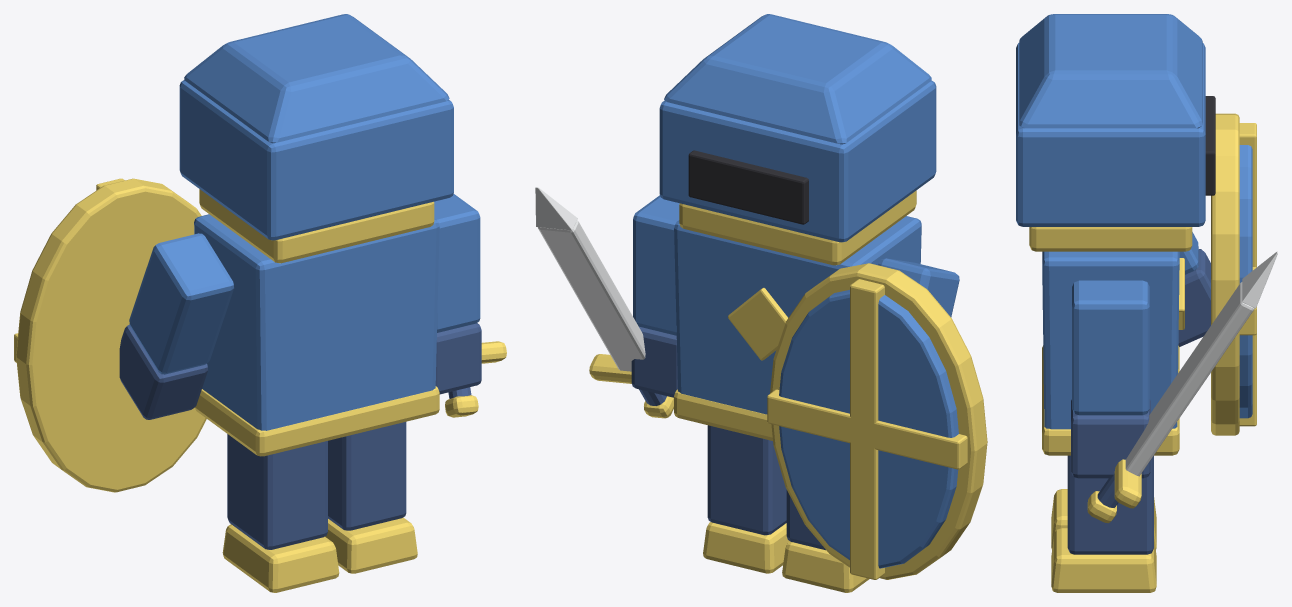
Rendered from shieldman.glb.
3 renders of one model, left to right at view 1: azimuth 30°, elevation 25°; view 2: azimuth 150°, elevation 25°; view 3: azimuth 270°, elevation 25°, orthographic.
Parts seen in each view (by area): view 1: TorsoBody, ShieldRim, Helmet, HelmetTop, UpperL, ShinL, ShinR, Belt, UpperR, Collar, BootL, ForeL (+3 smaller); view 2: ShieldFace, Helmet, HelmetTop, TorsoBody, ShieldRim, ShieldBarV, ShinR, Blade, ShieldBarH, Visor, UpperR, Collar (+9 smaller); view 3: HelmetTop, Helmet, TorsoBody, UpperR, ShieldRim, Blade, ShinR, BootR, ForeR, Collar, ShieldFace, ForeL (+10 smaller).
Part boxes in pixels (<box>): TorsoBody: <box>194,214,439,430</box>; ShieldRim: <box>16,178,206,492</box>; Helmet: <box>179,80,453,240</box>; HelmetTop: <box>184,14,449,143</box>; UpperL: <box>129,233,233,374</box>; ShinL: <box>227,434,327,549</box>; ShinR: <box>328,422,406,530</box>; Belt: <box>195,386,439,456</box>; UpperR: <box>434,194,480,332</box>; Collar: <box>199,189,434,263</box>; BootL: <box>222,524,339,592</box>; ForeL: <box>119,324,207,419</box>; ShieldFace: <box>779,290,958,568</box>; Helmet: <box>659,81,936,242</box>; HelmetTop: <box>664,14,931,144</box>; TorsoBody: <box>674,216,921,414</box>; ShieldRim: <box>770,263,987,579</box>; ShieldBarV: <box>850,279,884,579</box>; ShinR: <box>707,425,786,535</box>; Blade: <box>538,220,645,371</box>; ShieldBarH: <box>767,389,967,469</box>; Visor: <box>688,150,808,224</box>; UpperR: <box>633,195,679,335</box>; Collar: <box>679,190,916,265</box>; HelmetTop: <box>1019,14,1202,128</box>; Helmet: <box>1016,43,1205,226</box>; TorsoBody: <box>1042,251,1179,429</box>; UpperR: <box>1072,280,1149,415</box>; ShieldRim: <box>1211,113,1239,435</box>; Blade: <box>1125,282,1254,476</box>; ShinR: <box>1067,455,1153,554</box>; BootR: <box>1051,528,1156,592</box>; ForeR: <box>1071,399,1150,478</box>; Collar: <box>1029,227,1192,251</box>; ShieldFace: <box>1239,145,1252,418</box>; ForeL: <box>1178,249,1210,346</box>.
Size of the model in its own units: 0.8858 by 0.99 by 0.4556.
